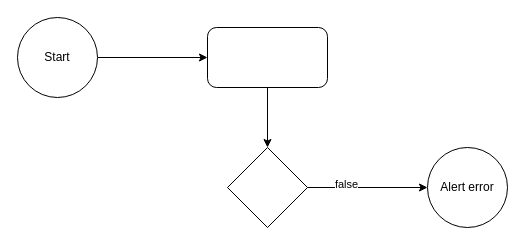
Image size: 525x245. Some labels were removed from this diagram. The centre of each missing label's shape, as x and y in pixels:
"Get account result" belongs at pixel 267 187.
"Get user credentials from service" belongs at pixel 267 57.
